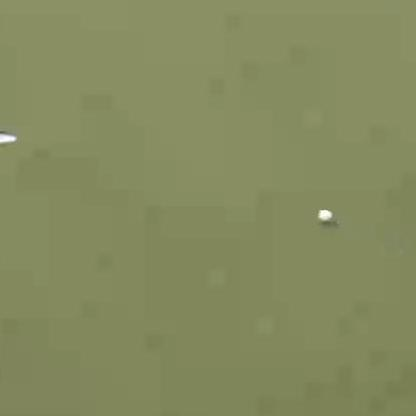golfball: (319, 208, 331, 222)
